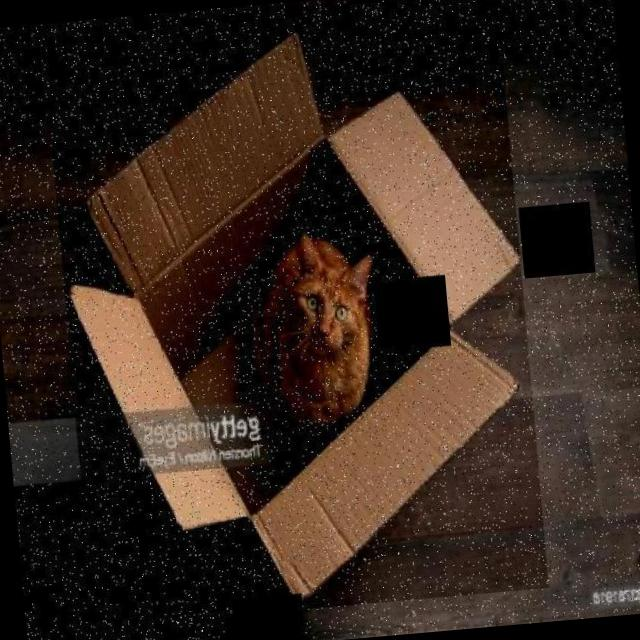box: (42, 2, 548, 628)
